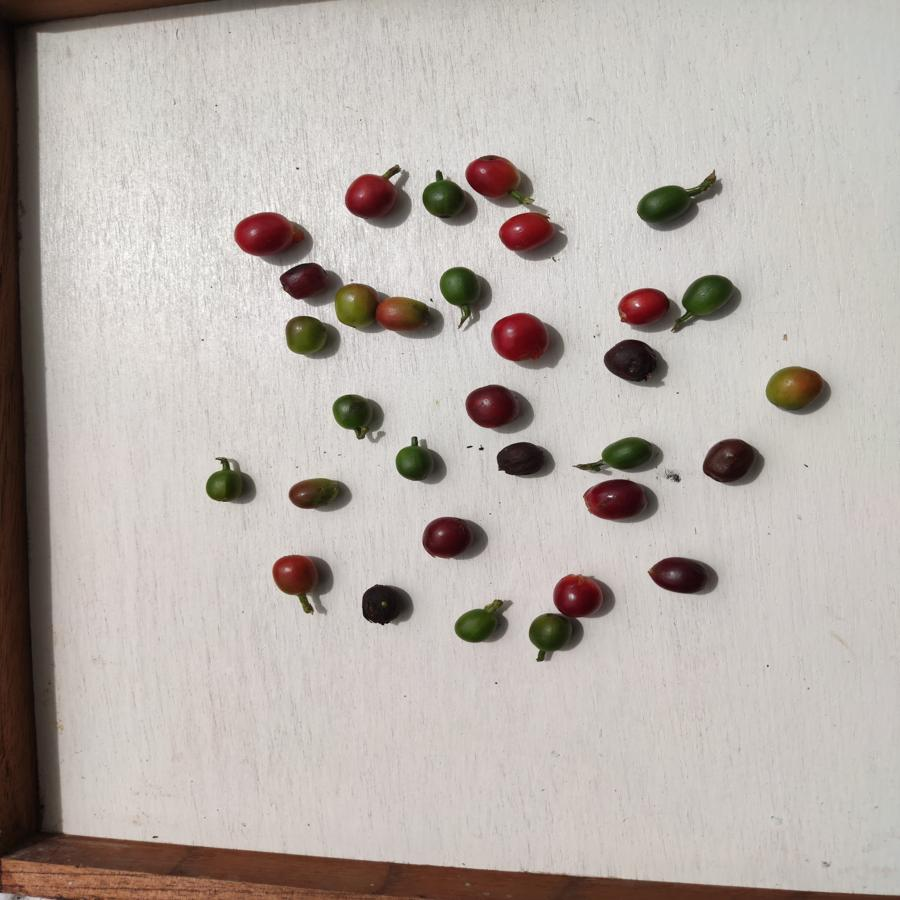Inmaduro: (632, 183, 698, 228), (681, 273, 737, 322), (597, 435, 657, 475), (527, 613, 577, 658), (328, 395, 380, 436), (455, 606, 502, 648), (420, 180, 469, 218), (393, 444, 439, 484), (440, 267, 483, 309), (208, 462, 244, 505)
Maduro: (489, 308, 556, 370), (230, 210, 296, 258), (465, 152, 524, 204), (495, 208, 557, 255), (344, 173, 400, 219), (619, 287, 670, 327), (272, 553, 319, 596)
Pinton: (766, 364, 826, 412), (370, 294, 432, 336), (329, 281, 381, 330), (284, 476, 345, 511), (282, 315, 333, 352)
Sobremaduro: (553, 570, 609, 627), (582, 480, 653, 523), (700, 438, 762, 483), (602, 337, 661, 384), (647, 555, 710, 599), (418, 517, 479, 562), (466, 386, 521, 428), (357, 581, 406, 625), (494, 442, 551, 478), (280, 261, 327, 299)
